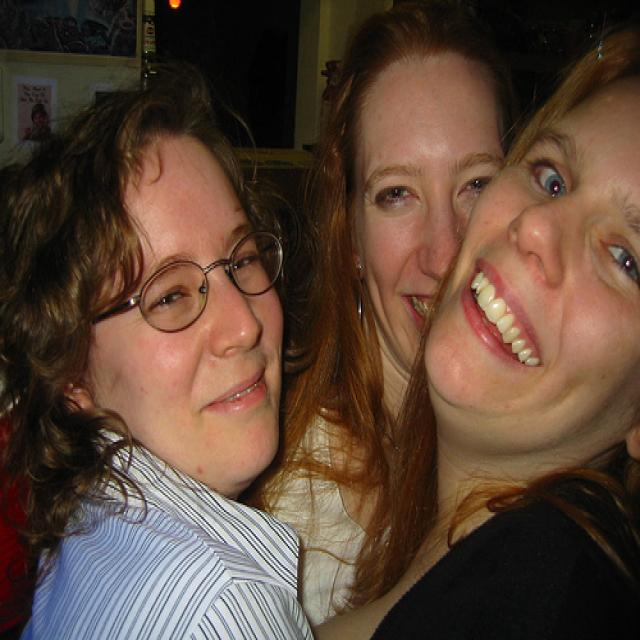person: (310, 1, 639, 639), (1, 76, 334, 639), (238, 3, 523, 639)
